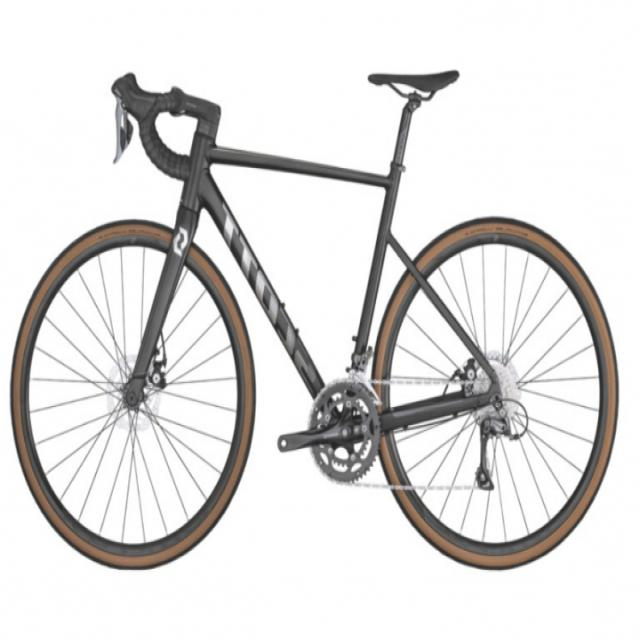bicycle: (11, 72, 618, 567)
